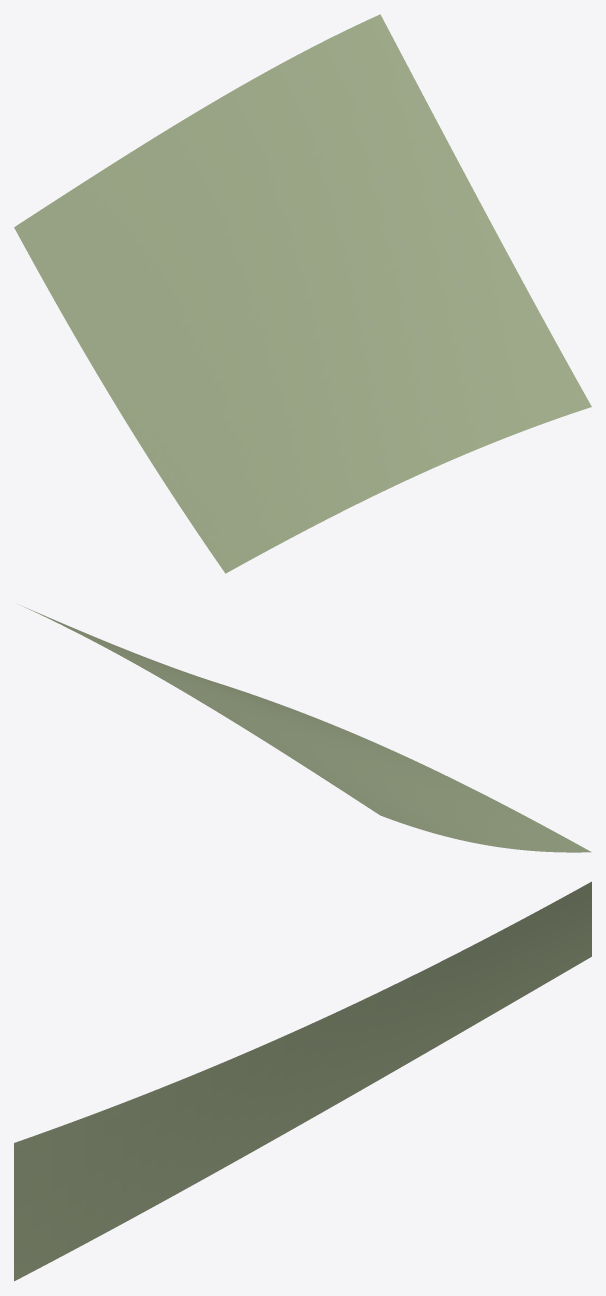
File: alpine-7-9.glb
The picture shows the model from 3 angles, top to bottom: view 1: azimuth 30°, elevation 25°; view 2: azimuth 150°, elevation 25°; view 3: azimuth 270°, elevation 25°; orthographic projection. The views are drawn at different scales.
Parts seen in each view (by area): view 1: alpine-7-9; view 2: alpine-7-9; view 3: alpine-7-9.
Part boxes in pixels (box(x1,y1,x2,y2)): alpine-7-9: box(14, 14, 591, 573); alpine-7-9: box(20, 605, 591, 852); alpine-7-9: box(14, 881, 591, 1281).
Size of the model in its own units: 256 by 210 by 256.
